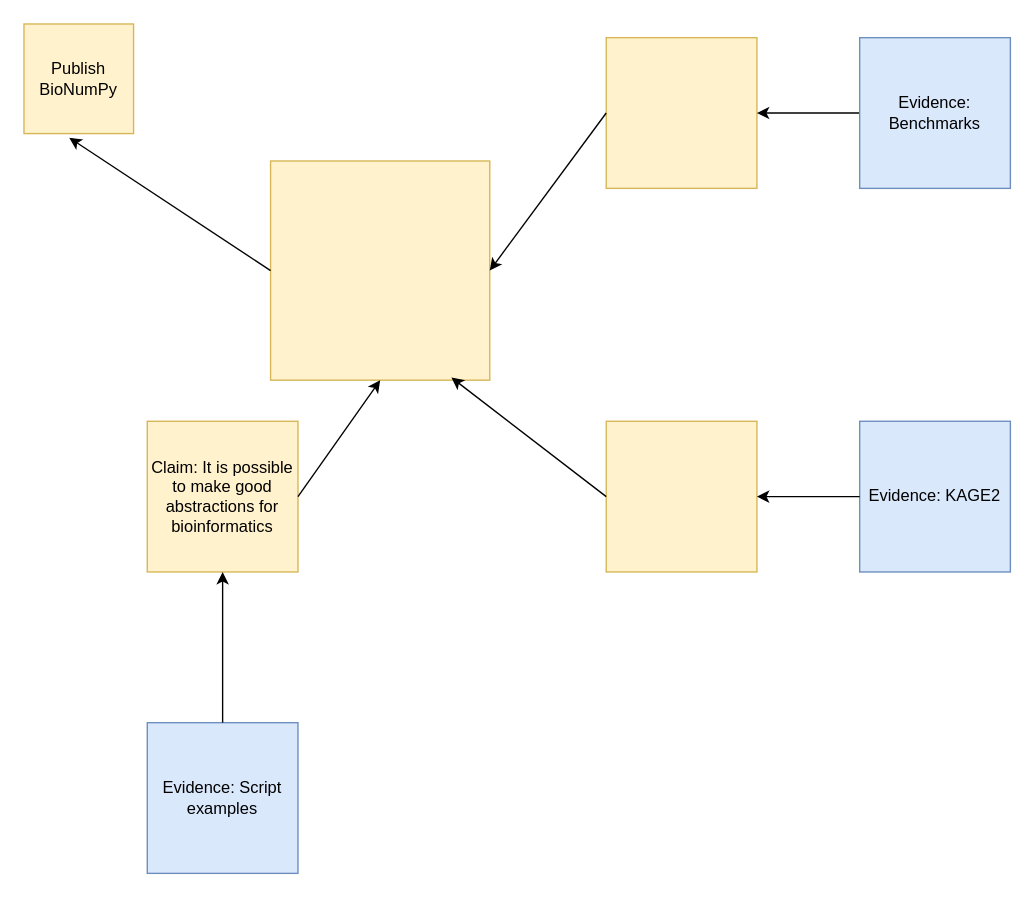
Some shapes in this 1034 by 897 pixel diagram are drawn without their labels. Each missing label, with the centre of its shape:
Claim: Bionumpy is a valuable addition to the bioinformatics infrastructure: (379,270)
Claim: BioNumpy Is Fast Enough to be used ro small conce nence tasks: (681,112)
Claim: BioNumpy is good enogh to be used in production: (681,496)
